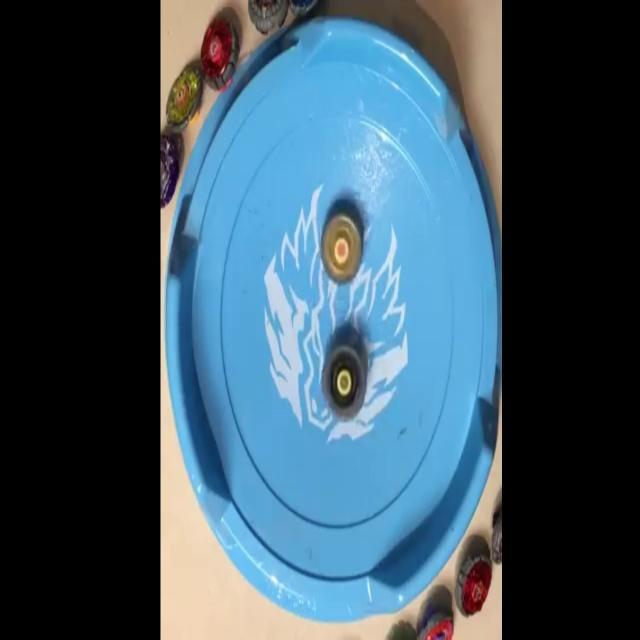Beyblade: (321, 348, 367, 421), (201, 15, 240, 90), (321, 214, 362, 284), (166, 68, 203, 134), (456, 556, 492, 618)
